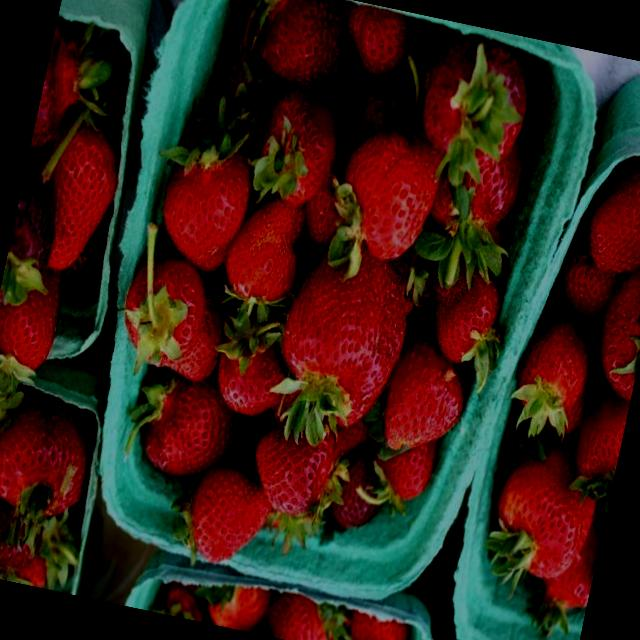Strawberry: (265, 238, 423, 440), (472, 422, 610, 614), (322, 122, 453, 268), (110, 248, 237, 388), (408, 37, 534, 172), (24, 115, 129, 276), (148, 138, 262, 280), (28, 11, 123, 168), (374, 334, 476, 466), (130, 376, 247, 491), (240, 82, 346, 208), (239, 413, 352, 531), (220, 188, 318, 316), (0, 395, 94, 527), (174, 464, 280, 574), (505, 304, 598, 422), (415, 258, 514, 368), (244, 0, 354, 94), (574, 139, 640, 283), (204, 323, 296, 422), (0, 257, 65, 378), (585, 263, 640, 406), (338, 3, 416, 82), (0, 473, 44, 584), (372, 434, 439, 506)
